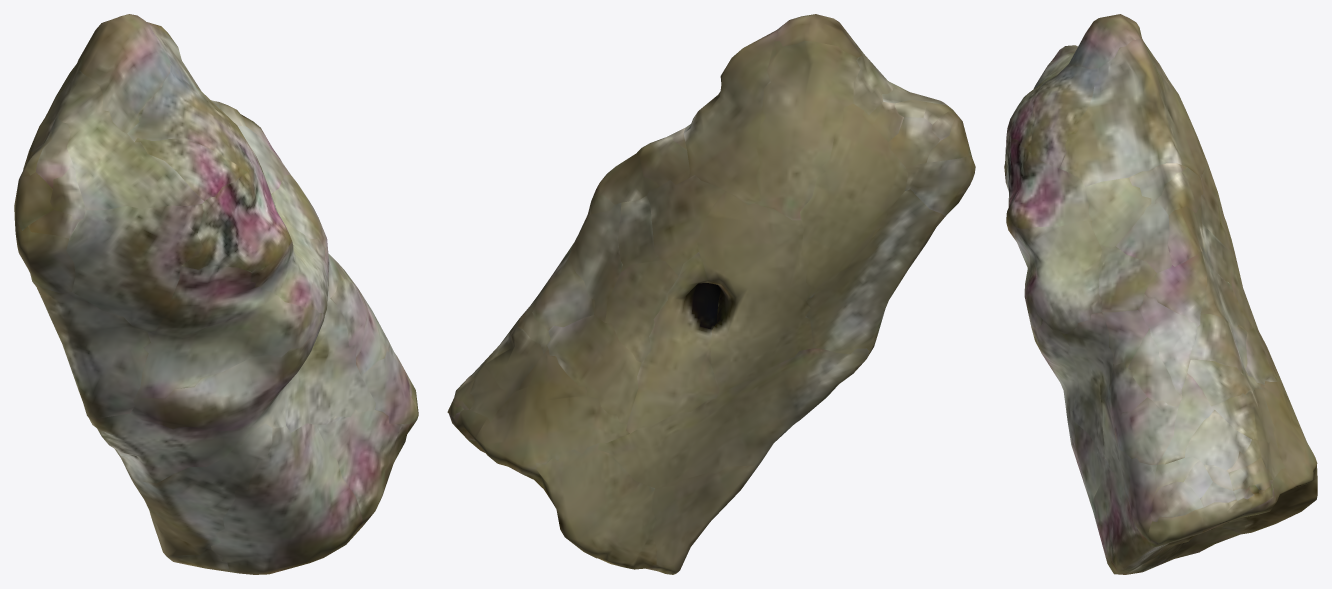
Rendered from hall.glb.
The picture shows the model from 3 angles, left to right: view 1: azimuth 30°, elevation 25°; view 2: azimuth 150°, elevation 25°; view 3: azimuth 270°, elevation 25°; orthographic projection. The views are drawn at different scales.
Bounding box in the file's own units: 0.5386 × 0.6679 × 0.385.
1 material, 1 textured.
